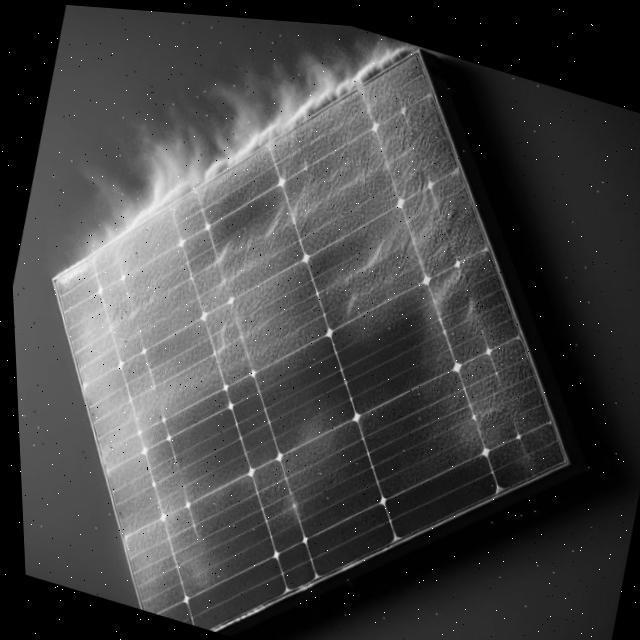Anomaly Solar Panel: (47, 49, 563, 627)
Surface Contaminant: (10, 45, 595, 611)
